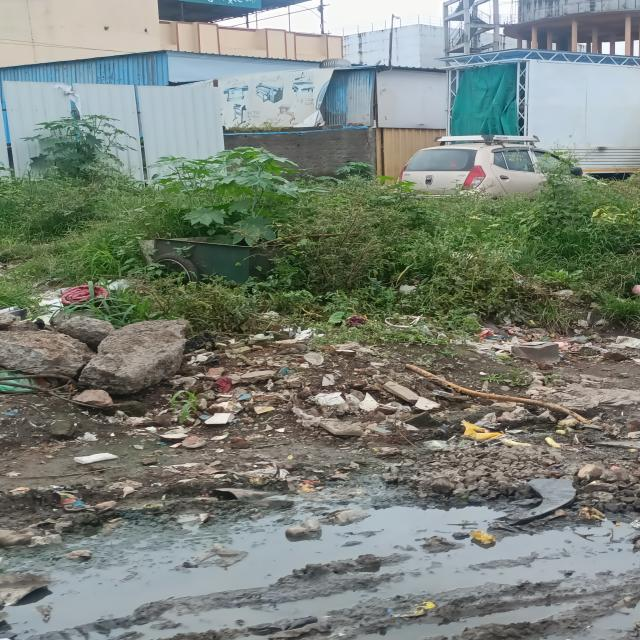garbage: (4, 281, 124, 323)
